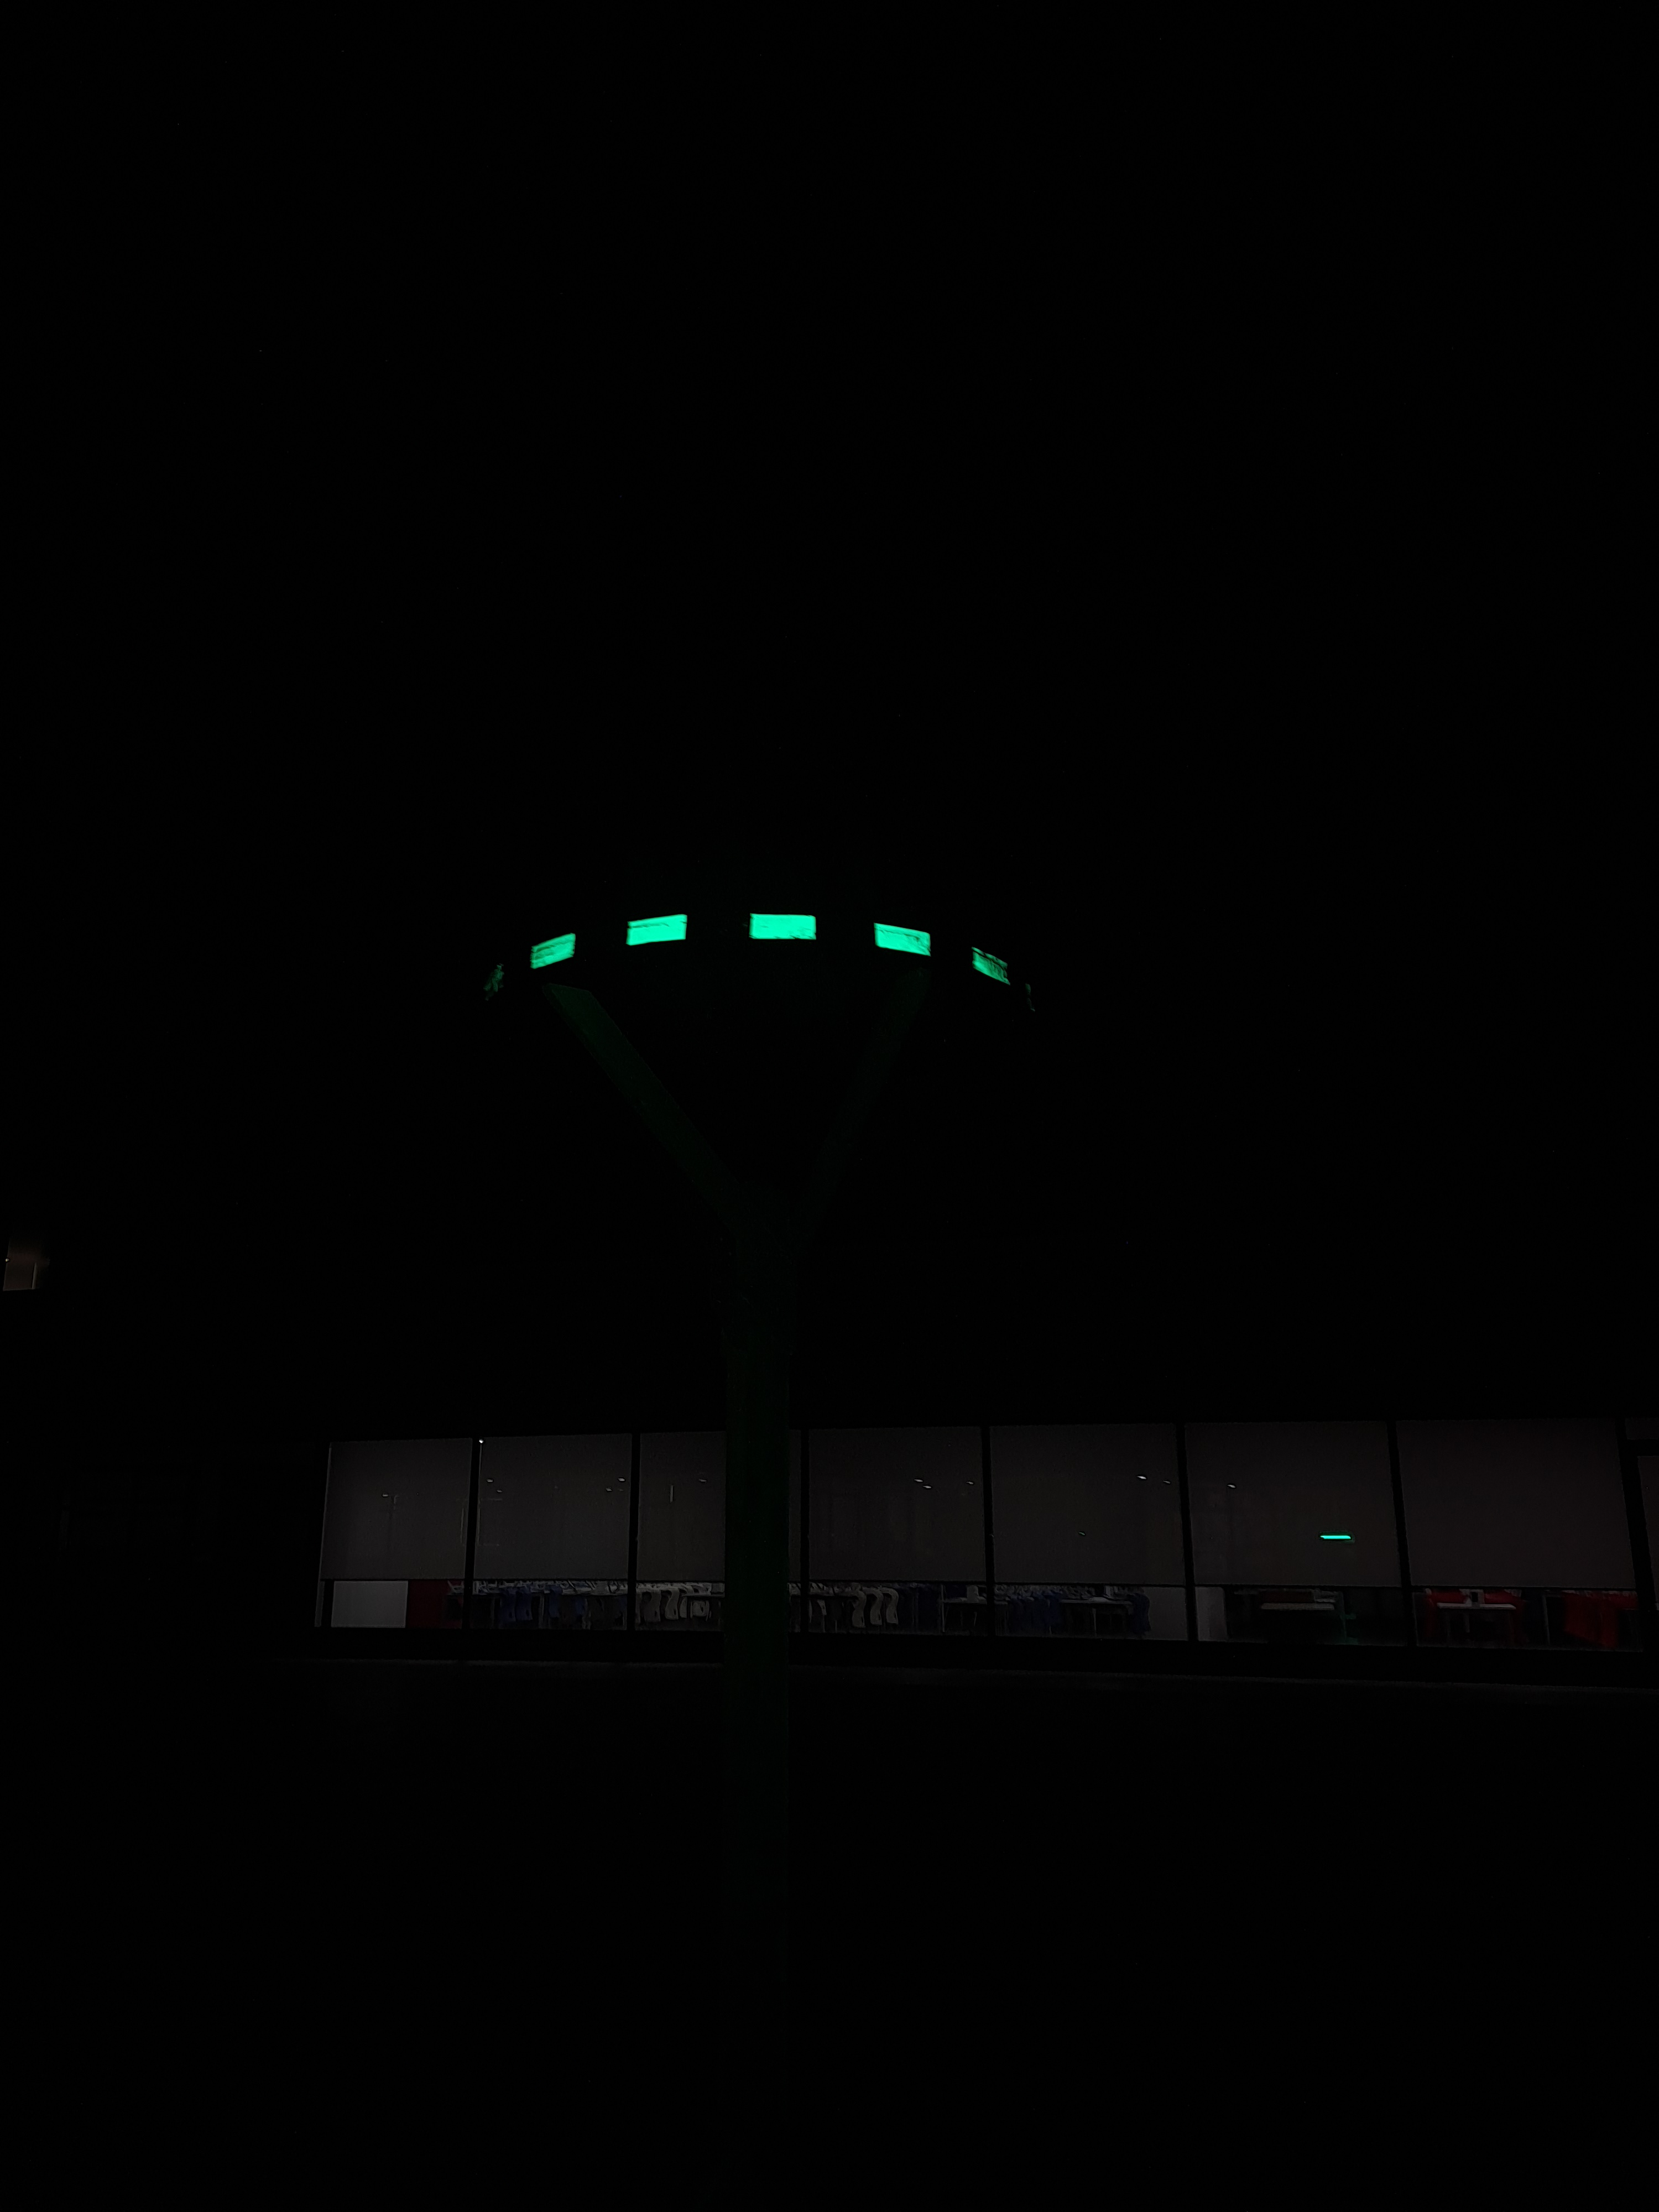hoop: (521, 906, 1018, 996)
